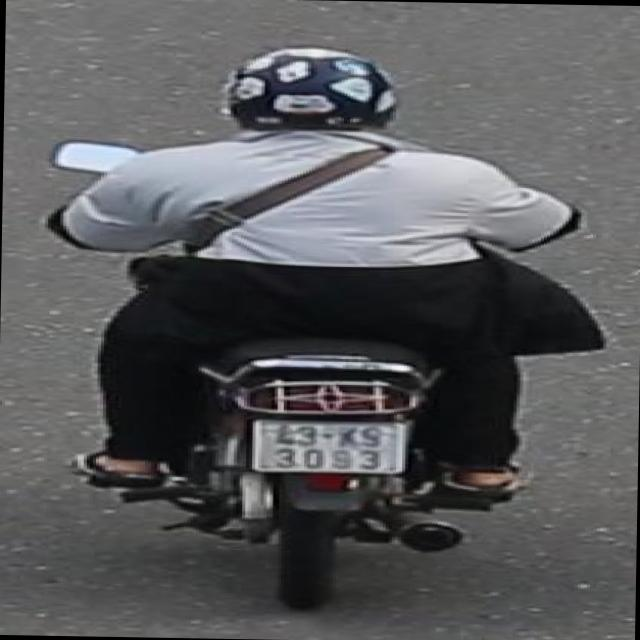LP: (245, 409, 415, 476)
helmet: (206, 41, 424, 148)
